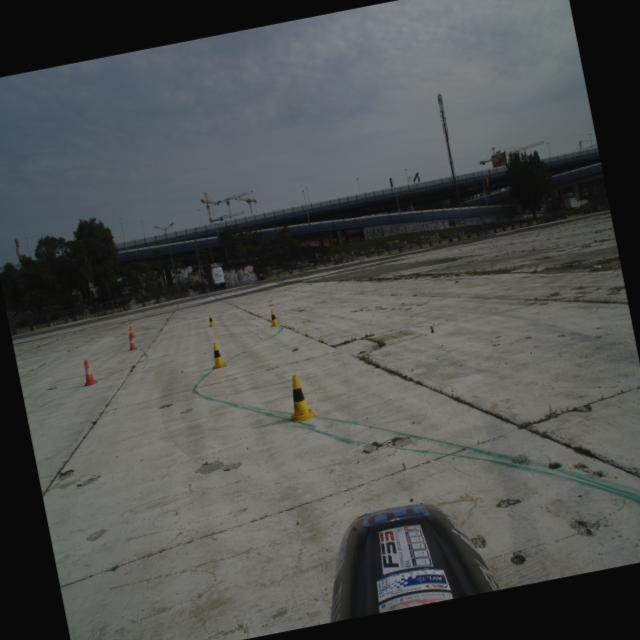orange_cone: (78, 358, 100, 387), (126, 333, 138, 351), (130, 326, 136, 338)
yellow_cone: (282, 372, 316, 423), (208, 340, 228, 370), (268, 310, 280, 328), (207, 314, 216, 327)
